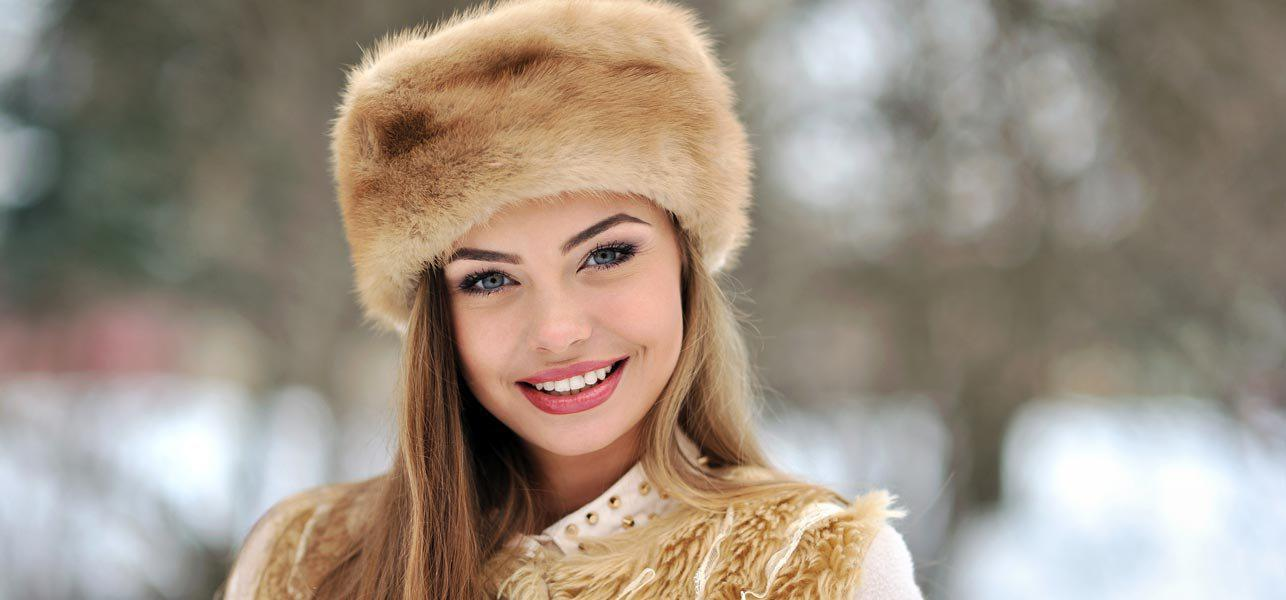Sober: (443, 209, 682, 441)
